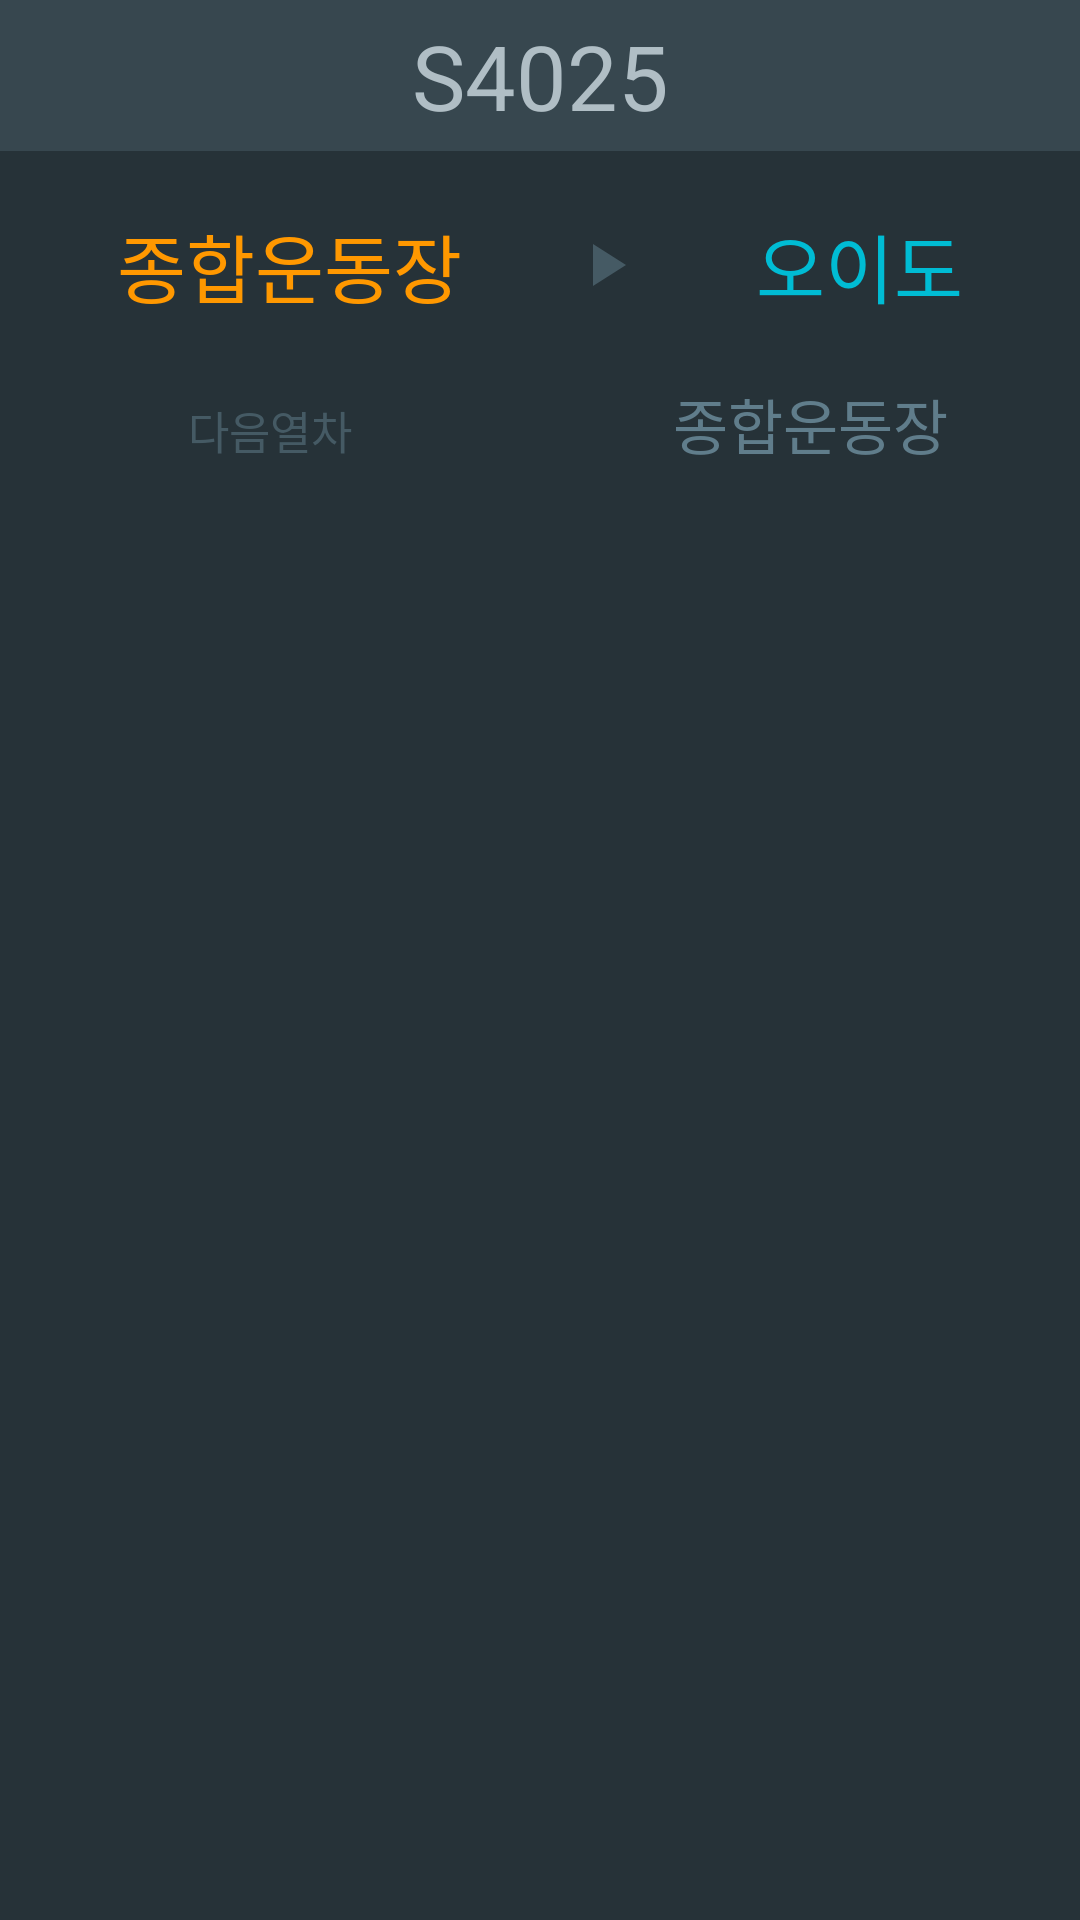

Where icons sit on this 1080x1920 app screen, as (x1, y1, x2, y2):
arrow: (593, 244, 625, 286)
